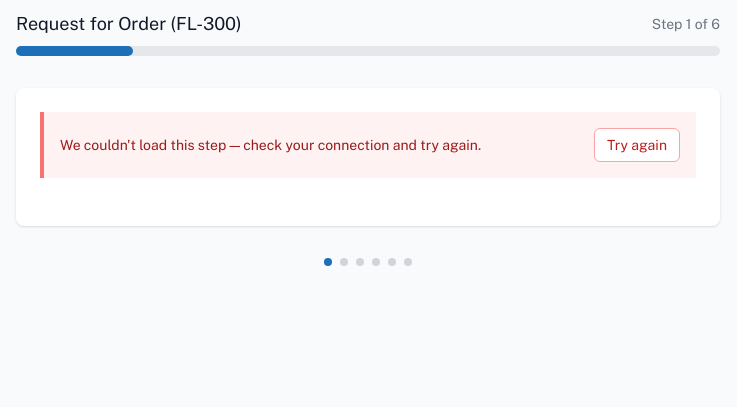
it: GuidedIntake error surfacing › failed step load shows an error with a working retry
expect the text "couldn't load this step" is shown: met, box [60,137,481,153]
Click the button "Try again" at (637, 145), box [594,128,680,162]
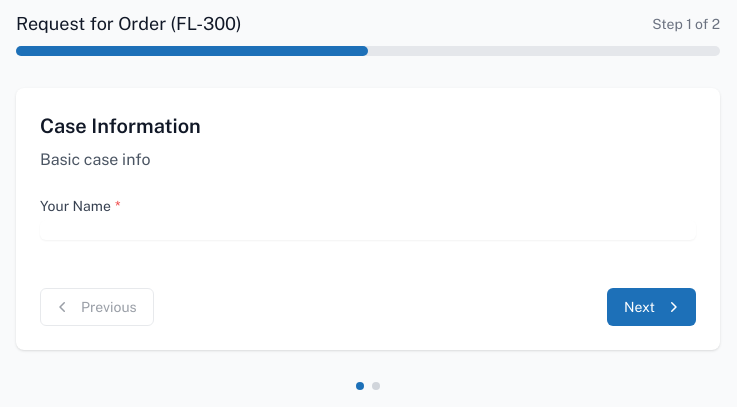
expect the text "couldn't load this step" is gone: met
